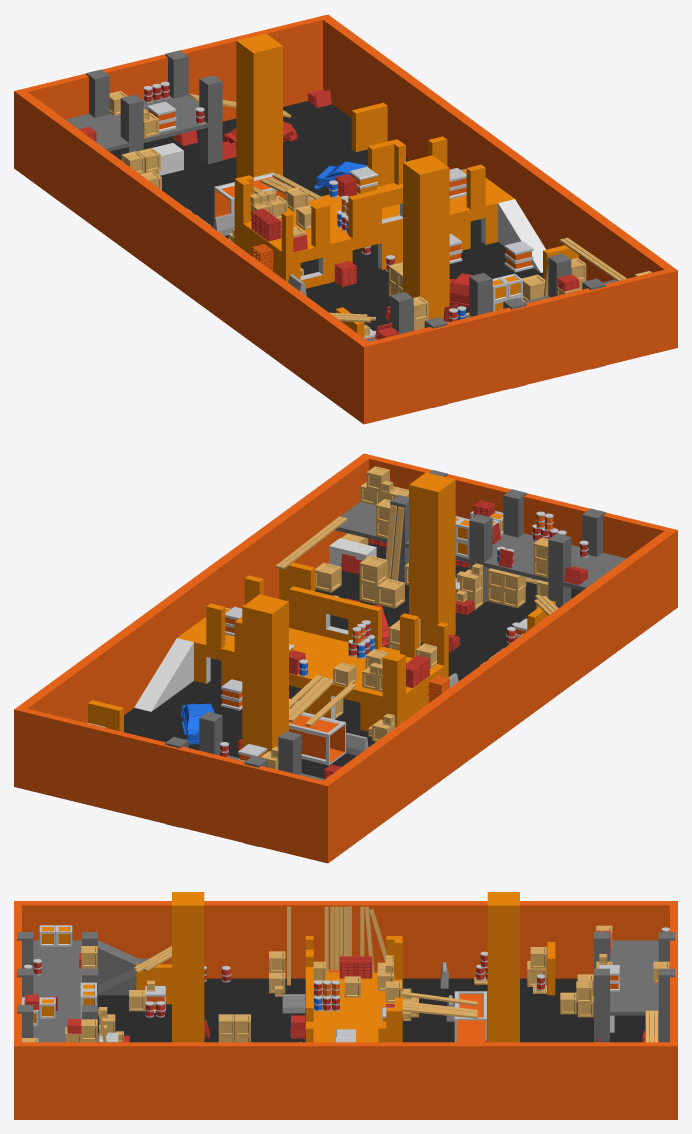
The picture shows the model from 3 angles, top to bottom: view 1: azimuth 30°, elevation 25°; view 2: azimuth 150°, elevation 25°; view 3: azimuth 270°, elevation 25°; orthographic projection. The views are drawn at different scales.
Visible parts, largest first — view 1: OuterWalls.001, Plane_0, OuterHouse, Cube.016_0, obj.048, obj.049, Cube.004_0, Cube.001_0, obj.004, BigBox.004, Cube.011_0, Cube.006_0 (+2 smaller); view 2: OuterWalls.001, OuterHouse, Plane_0, Cube.004_0, obj.048, obj.049, Cube.016_0, Cube.002_0, Cube.005_0, obj.002, obj.004, Cube.017_0 (+5 smaller); view 3: OuterWalls.001, Plane_0, Cube.016_0, Cube.004_0, OuterHouse, obj.048, obj.049, up2, Cube.030_0, Cube.005_0, obj.024, Cube.005_1 (+18 smaller).
Part boxes in pixels (bbox=[...]): OuterWalls.001: bbox=[14, 14, 677, 424]; Plane_0: bbox=[110, 101, 542, 330]; OuterHouse: bbox=[234, 136, 514, 288]; Cube.016_0: bbox=[65, 50, 222, 164]; obj.048: bbox=[403, 155, 449, 319]; obj.049: bbox=[236, 33, 282, 178]; Cube.004_0: bbox=[367, 253, 616, 407]; Cube.001_0: bbox=[498, 199, 545, 272]; obj.004: bbox=[351, 102, 387, 151]; BigBox.004: bbox=[504, 241, 533, 272]; Cube.011_0: bbox=[153, 143, 183, 175]; Cube.006_0: bbox=[449, 273, 473, 307]; OuterWalls.001: bbox=[14, 453, 677, 863]; OuterHouse: bbox=[177, 575, 448, 731]; Plane_0: bbox=[124, 543, 581, 778]; Cube.004_0: bbox=[335, 470, 626, 608]; obj.048: bbox=[409, 472, 455, 645]; obj.049: bbox=[242, 594, 288, 752]; Cube.016_0: bbox=[165, 712, 323, 846]; Cube.002_0: bbox=[134, 638, 193, 711]; Cube.005_0: bbox=[289, 715, 344, 762]; obj.002: bbox=[279, 562, 315, 601]; obj.004: bbox=[88, 700, 123, 731]; Cube.017_0: bbox=[329, 538, 376, 566]; OuterWalls.001: bbox=[14, 901, 677, 1119]; Plane_0: bbox=[98, 978, 658, 1042]; Cube.016_0: bbox=[594, 932, 674, 1042]; Cube.004_0: bbox=[17, 932, 97, 1042]; OuterHouse: bbox=[305, 936, 402, 1042]; obj.048: bbox=[172, 892, 204, 1042]; obj.049: bbox=[487, 892, 519, 1042]; up2: bbox=[98, 940, 148, 995]; Cube.030_0: bbox=[330, 906, 347, 969]; Cube.005_0: bbox=[456, 994, 485, 1042]; obj.024: bbox=[136, 964, 171, 1004]; Cube.005_1: bbox=[454, 991, 487, 1042].
Bounding box in the file's own units: 24.33 × 11.59 × 46.94.
